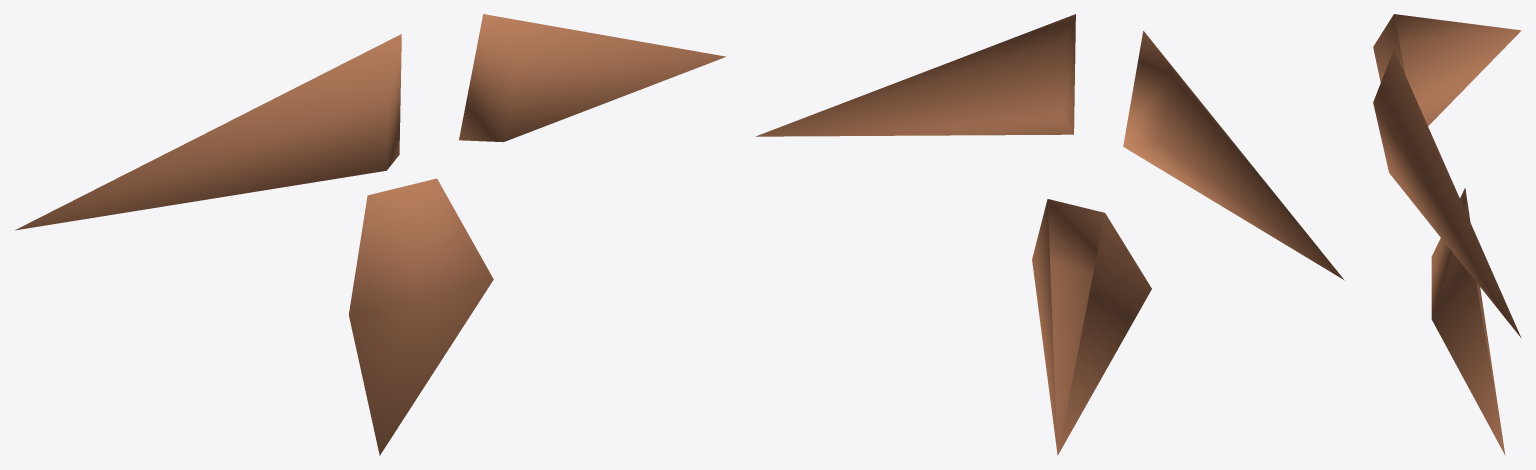
File: Frenchie.fbx
3 renders of one model, left to right at view 1: azimuth 30°, elevation 25°; view 2: azimuth 150°, elevation 25°; view 3: azimuth 270°, elevation 25°, orthographic. The views are drawn at different scales.
Visible parts, largest first — view 1: 02 Beard - Cabron5; view 2: 02 Beard - Cabron5; view 3: 02 Beard - Cabron5.
Part boxes in pixels (bbox=[...]): 02 Beard - Cabron5: bbox=[15, 14, 725, 455]; 02 Beard - Cabron5: bbox=[756, 14, 1344, 455]; 02 Beard - Cabron5: bbox=[1373, 14, 1521, 455].
Size of the model in its own units: 10.71 by 6.87 by 2.18.
